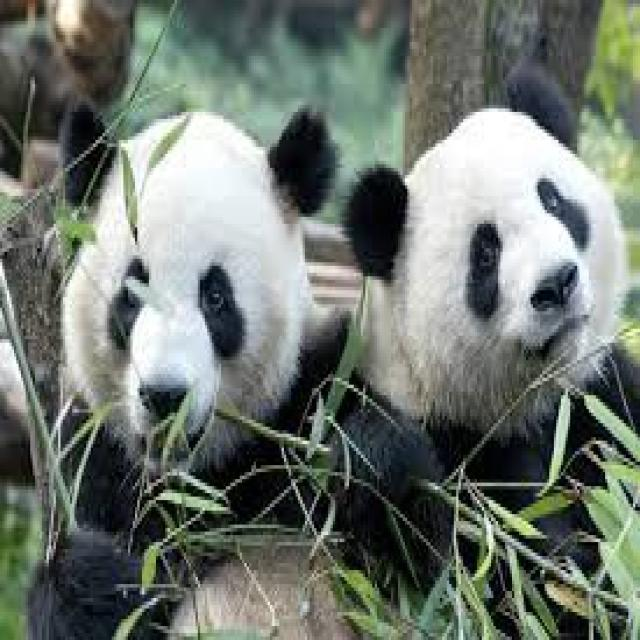panda: (377, 133, 640, 498), (53, 144, 300, 520)
